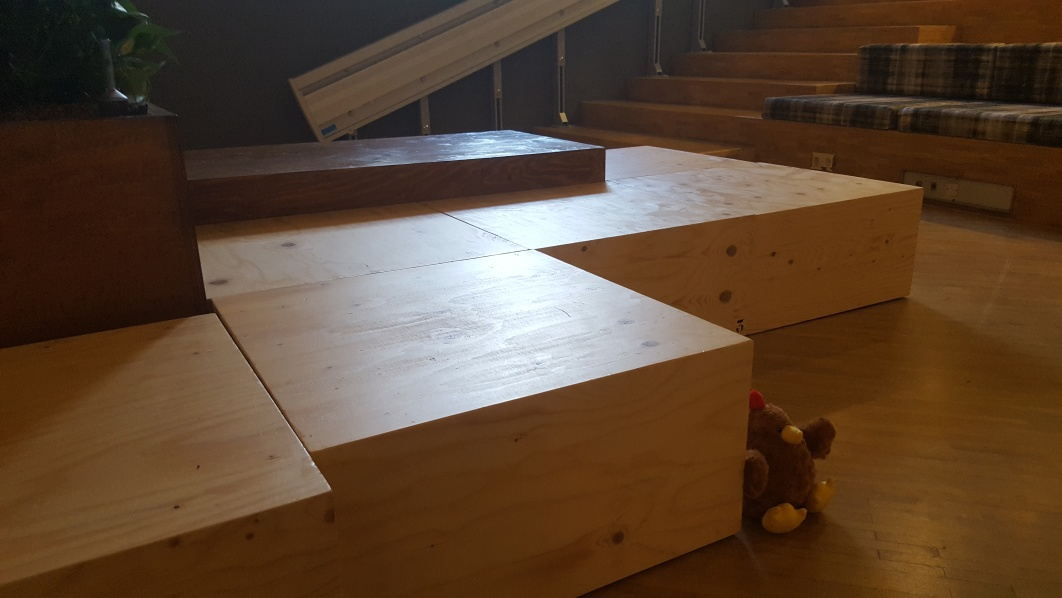chicken: (743, 387, 837, 540)
